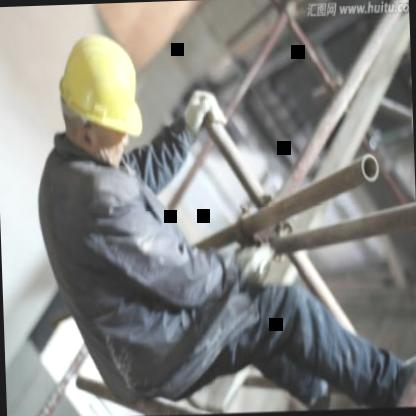helmet: (49, 23, 153, 177)
